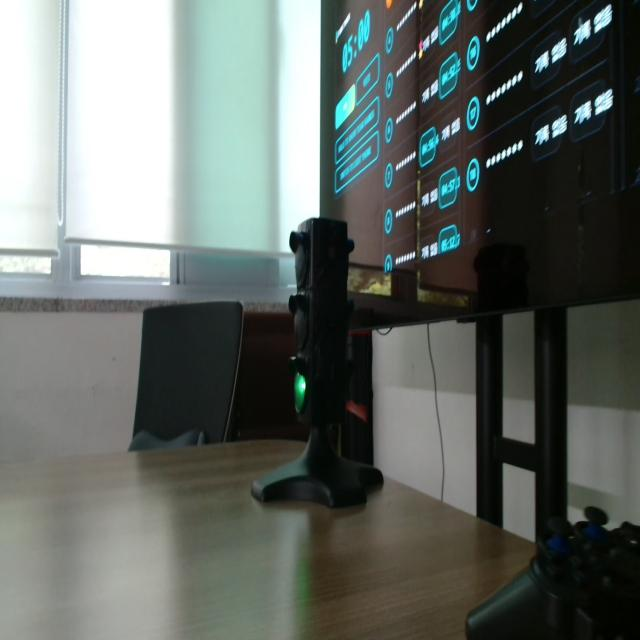green_light: (294, 373, 306, 412)
